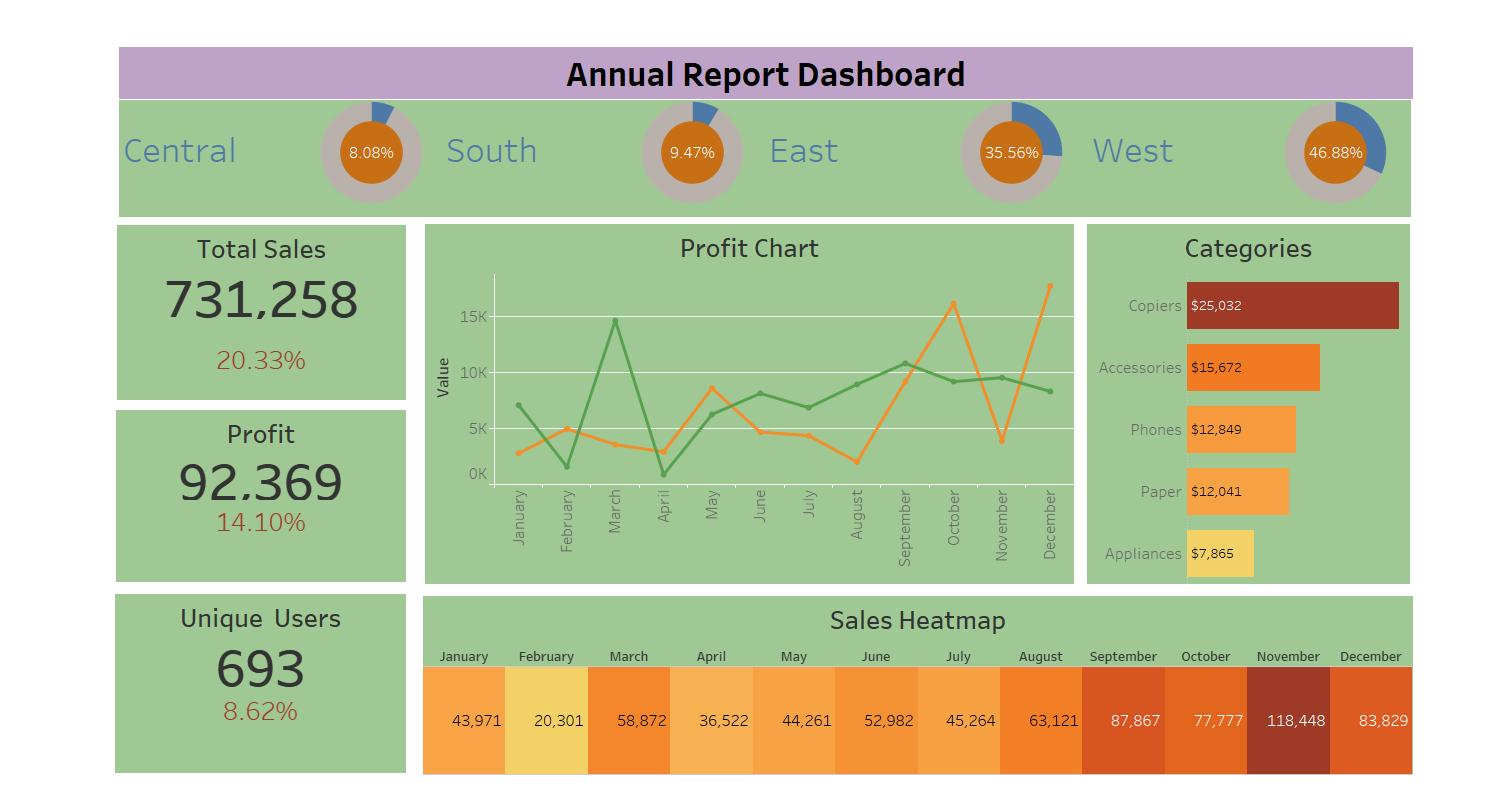

Layout of this report page (visuals, bound fields, positions):
{"tool":"tableau","page":{"name":"Annual Report Dashboard","canvas":[1000,1000],"units":"permille","ordinal":0},"visuals":[{"type":"text","box":[78.3,57.5,864.2,67.5]},{"type":"worksheet","title":"Region action set","mark":"Automatic","cols":["Region"],"box":[79.2,125,861.7,146.2]},{"type":"worksheet","title":"KPI Central","mark":"Pie","rows":["Quantity","Quantity"],"box":[204.2,125,87.5,131.2]},{"type":"worksheet","title":"KPI South","mark":"Pie","rows":["Quantity","Quantity"],"box":[418.3,125,87.5,131.2]},{"type":"worksheet","title":"KPI East","mark":"Pie","rows":["Quantity","Quantity"],"box":[630.8,125,87.5,131.2]},{"type":"worksheet","title":"KPI West","mark":"Pie","rows":["Quantity","Quantity"],"box":[846.7,125,87.5,131.2]},{"type":"worksheet","title":"Profit","mark":"Line","cols":["Order Date"],"box":[283.3,280,432.5,450]},{"type":"worksheet","title":"Most profitable categories","mark":"Bar","rows":["Sub-Category"],"cols":["Order Date","Profit"],"box":[724.7,280,215.3,450]},{"type":"worksheet","title":"Sales KPI","mark":"Text","cols":["YTD (copy)_891501668780527620"],"box":[78.3,281.2,192.5,218.8]},{"type":"worksheet","title":"Profit KPI","mark":"Automatic","cols":["Calculation_891501668771164161"],"box":[77.5,512.5,193.3,215]},{"type":"worksheet","title":"Unique users KPI","mark":"Automatic","cols":["Sales YTD  (copy)_891501668781989895"],"box":[76.7,742.5,194.2,223.8]},{"type":"worksheet","title":"Sales","mark":"Square","cols":["Order Date"],"box":[281.7,745,660,223.8]}]}

Visuals, with their boxes on the dashboard's canvas, which has no fixed pixel size, in thousandths of its width and height (x1, y1, x2, y2). These are canvas units, not pixel positions in the 1500x800 screenshot, which may show the page scaled, cropped or inside an application window:
text: detection(78, 58, 942, 125)
"Region action set" worksheet: detection(79, 125, 941, 271)
"KPI Central" worksheet (Pie marks): detection(204, 125, 292, 256)
"KPI South" worksheet (Pie marks): detection(418, 125, 506, 256)
"KPI East" worksheet (Pie marks): detection(631, 125, 718, 256)
"KPI West" worksheet (Pie marks): detection(847, 125, 934, 256)
"Profit" worksheet (Line marks): detection(283, 280, 716, 730)
"Most profitable categories" worksheet (Bar marks): detection(725, 280, 940, 730)
"Sales KPI" worksheet (Text marks): detection(78, 281, 271, 500)
"Profit KPI" worksheet: detection(78, 512, 271, 728)
"Unique users KPI" worksheet: detection(77, 742, 271, 966)
"Sales" worksheet (Square marks): detection(282, 745, 942, 969)
